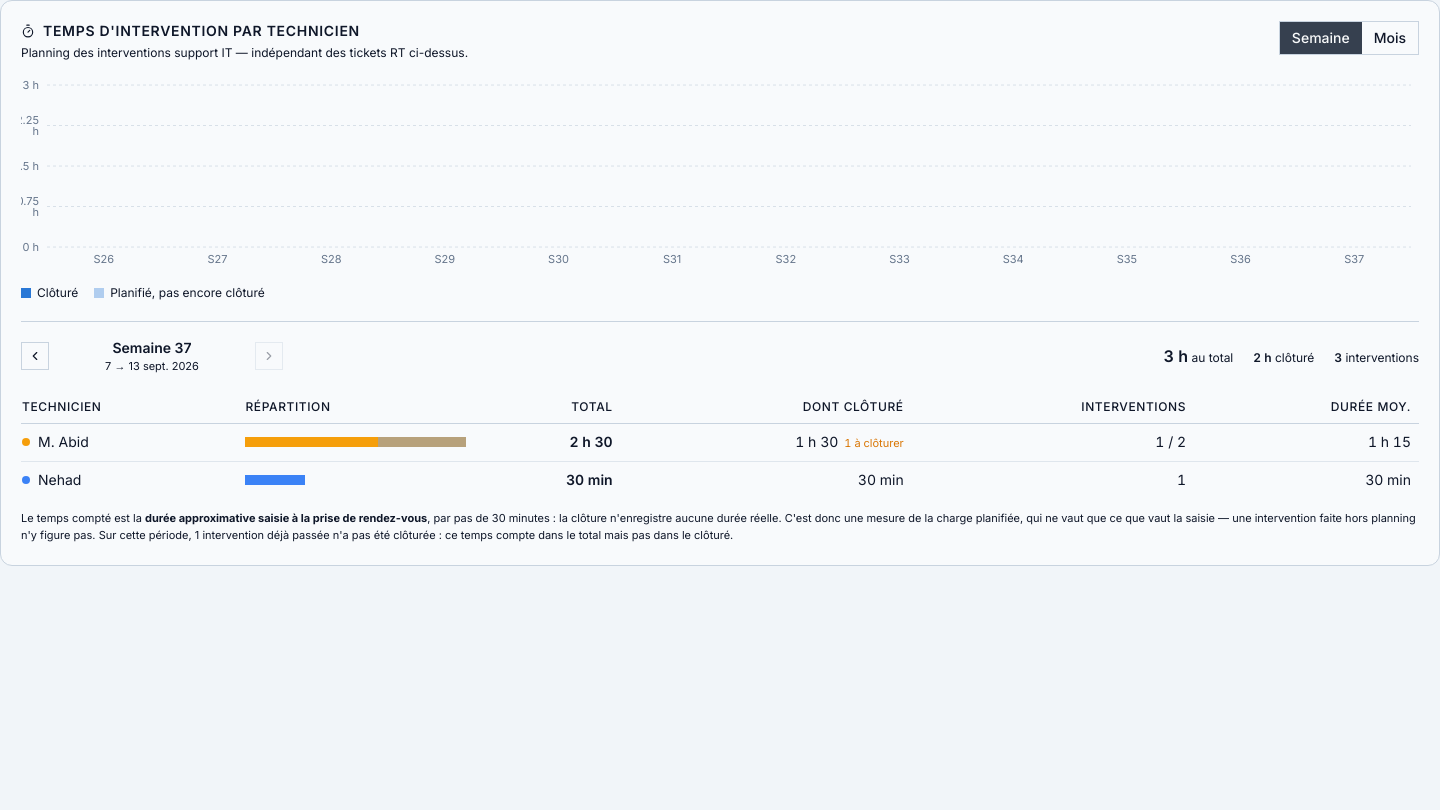
Test: InterventionTime › remonte la semaine précédente sans toucher aux autres
Click the button named "Période précédente".
click(35, 356)  # box [21,342,49,370]
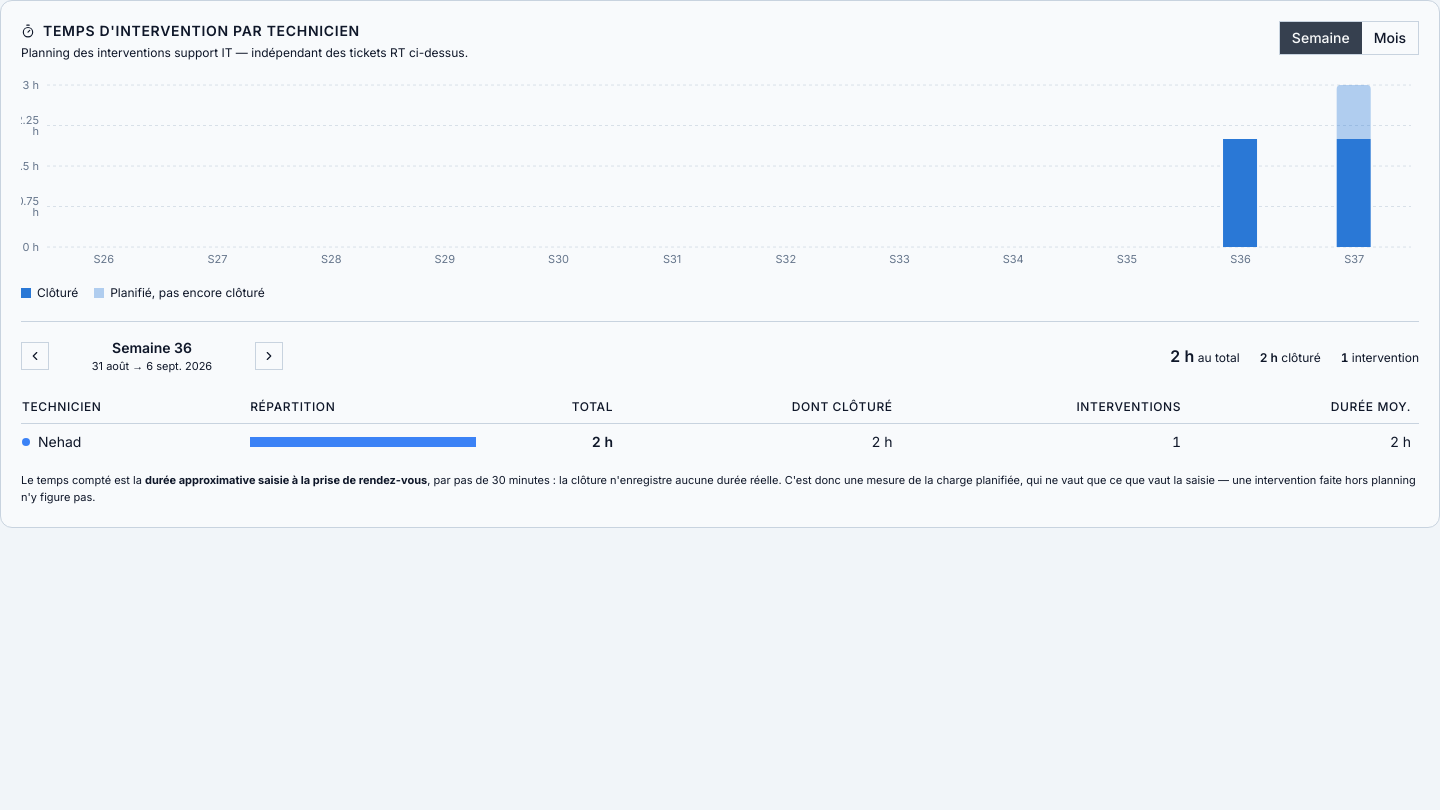
expect the text "Nehad" is shown: met, box [38,432,81,452]
expect the text "Semaine 36" is shown: met, box [112,339,192,356]
expect the text "M. Abid" is gone: met
